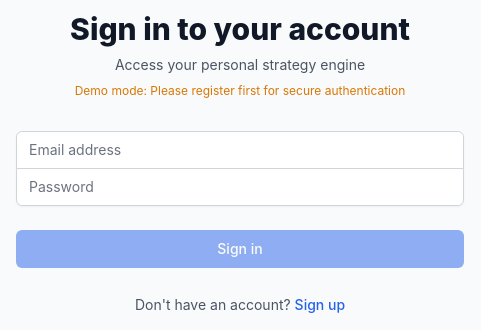
Test case: LoginPage › should enable submit button when fields are filled
The image size is (481, 330).
Type "test@example.com" into the field with placeholder "Email address" at point(240, 150), box left=16, top=130, right=464, bottom=168
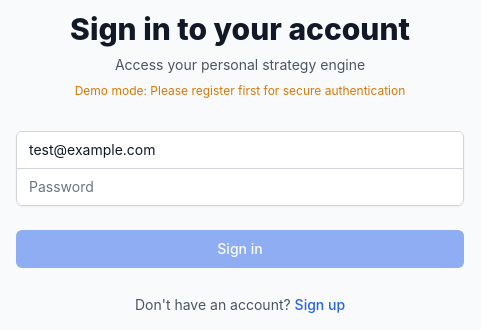
Type "password123" into the password field with placeholder "Password" at point(240, 186), box left=16, top=168, right=464, bottom=206
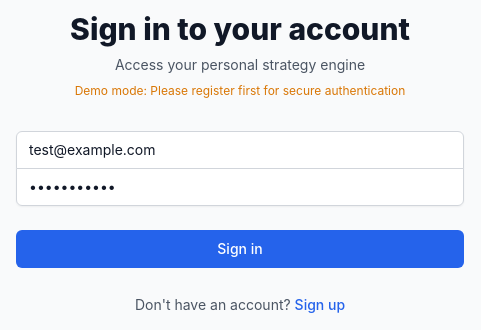
Now the button "Sign in" is enabled, box left=16, top=230, right=464, bottom=268
